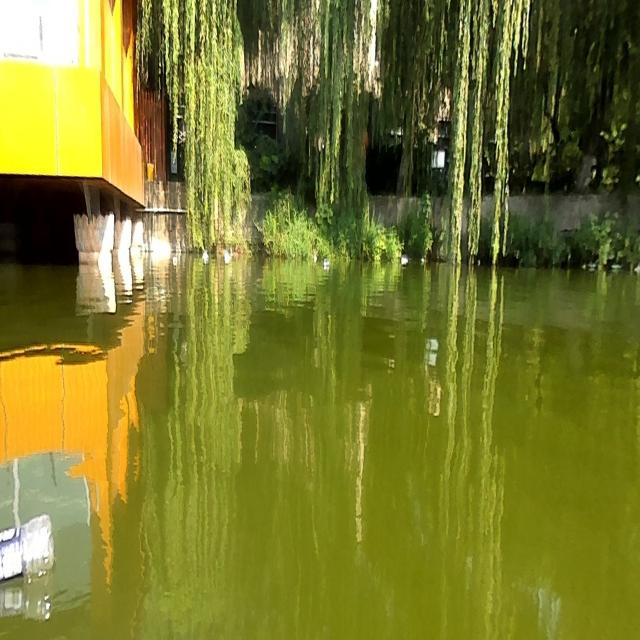bottle: (0, 512, 56, 583), (201, 249, 208, 264), (400, 254, 408, 266), (322, 258, 329, 268)
